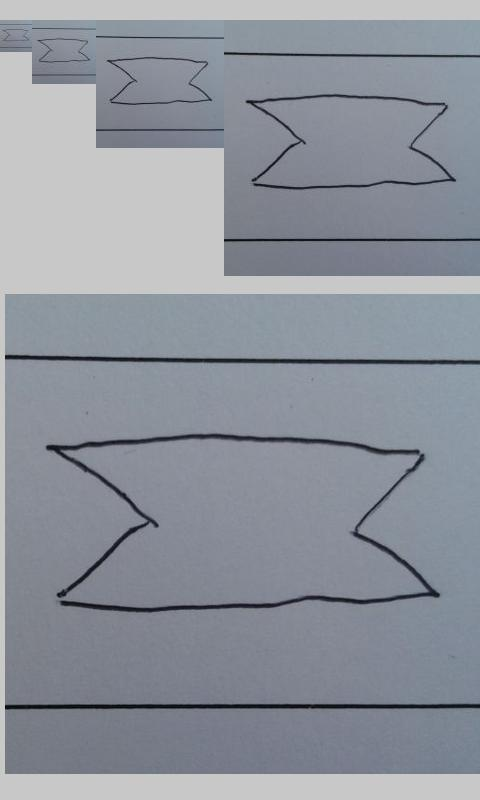edit_text: (47, 431, 435, 613), (245, 94, 456, 190), (107, 57, 212, 106), (38, 38, 90, 63), (3, 28, 30, 42)
